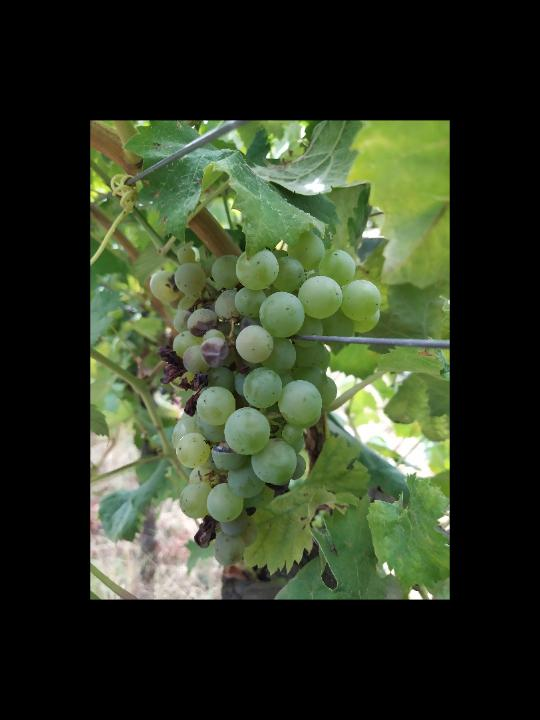grape: (148, 228, 383, 568)
